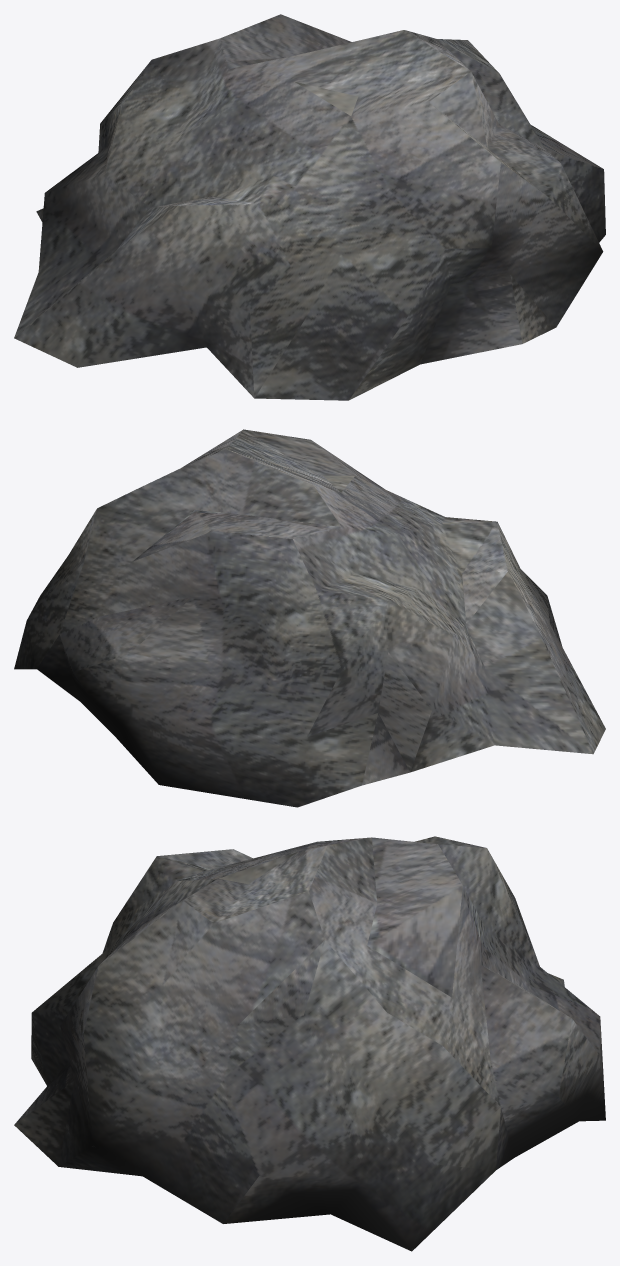
Rendered from big_rock_2.fbx.
The picture shows the model from 3 angles, top to bottom: view 1: azimuth 30°, elevation 25°; view 2: azimuth 150°, elevation 25°; view 3: azimuth 270°, elevation 25°; orthographic projection. The views are drawn at different scales.
Parts seen in each view (by area): view 1: big_rock_2; view 2: big_rock_2; view 3: big_rock_2.
Part boxes in pixels (x1,y1,x2,y2): big_rock_2: (14,14,605,400); big_rock_2: (14,429,605,807); big_rock_2: (14,836,605,1251).
Bounding box in the file's own units: 0.6382 × 0.3167 × 0.786.
Materials: 1 (1 with a texture image).
